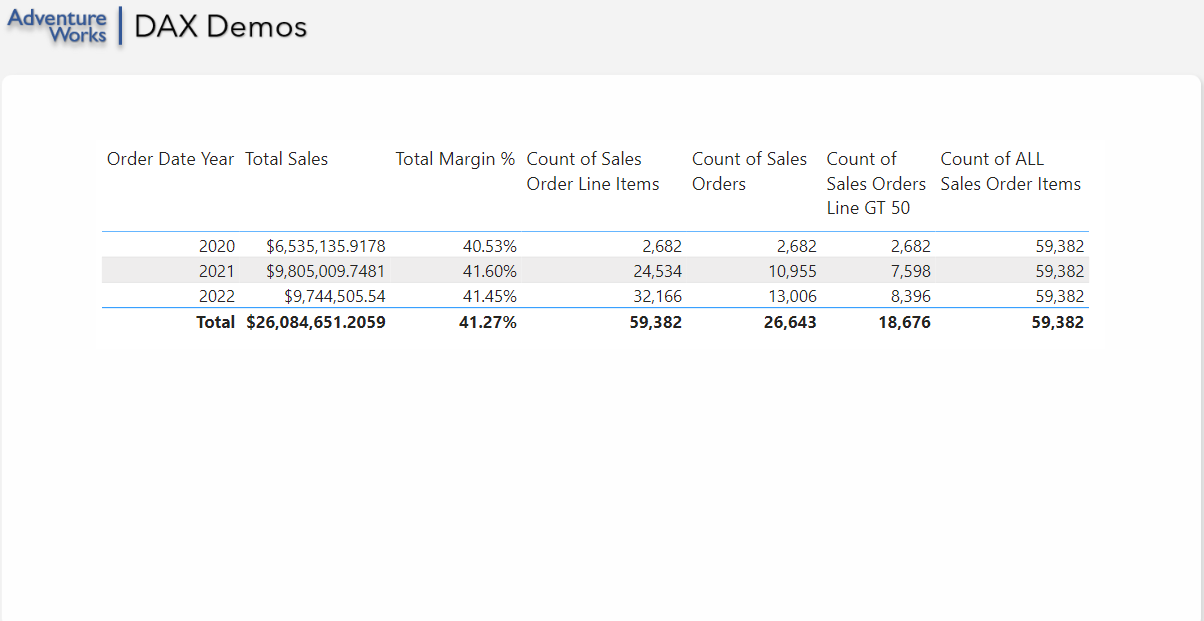

Layout of this report page (visuals, bound fields, positions):
{"tool":"powerbi","page":{"name":"DAX Demos","canvas":[1280,720],"ordinal":1},"visuals":[{"type":"tableEx","fields":{"Values":["Order Date.Order Date Year","Sales.Total Sales","Sales.Total Margin %","Sales.Count of Sales Order Line Items","Sales.Count of Sales Orders","Sales.Count of Sales Orders Line GT 50","Sales.Count of ALL Sales Order Items"]},"box":[120.4,171.8,1038.2,215],"z":0}]}

Visuals, with their boxes on the page's 1280x720 design canvas (x1, y1, x2, y2). These are canvas units, not pixel positions in the 1204x621 screenshot, which may show the page scaled, cropped or inside an application window:
tableEx - Order Date.Order Date Year x Sales.Total Sales: detection(120, 172, 1159, 387)
